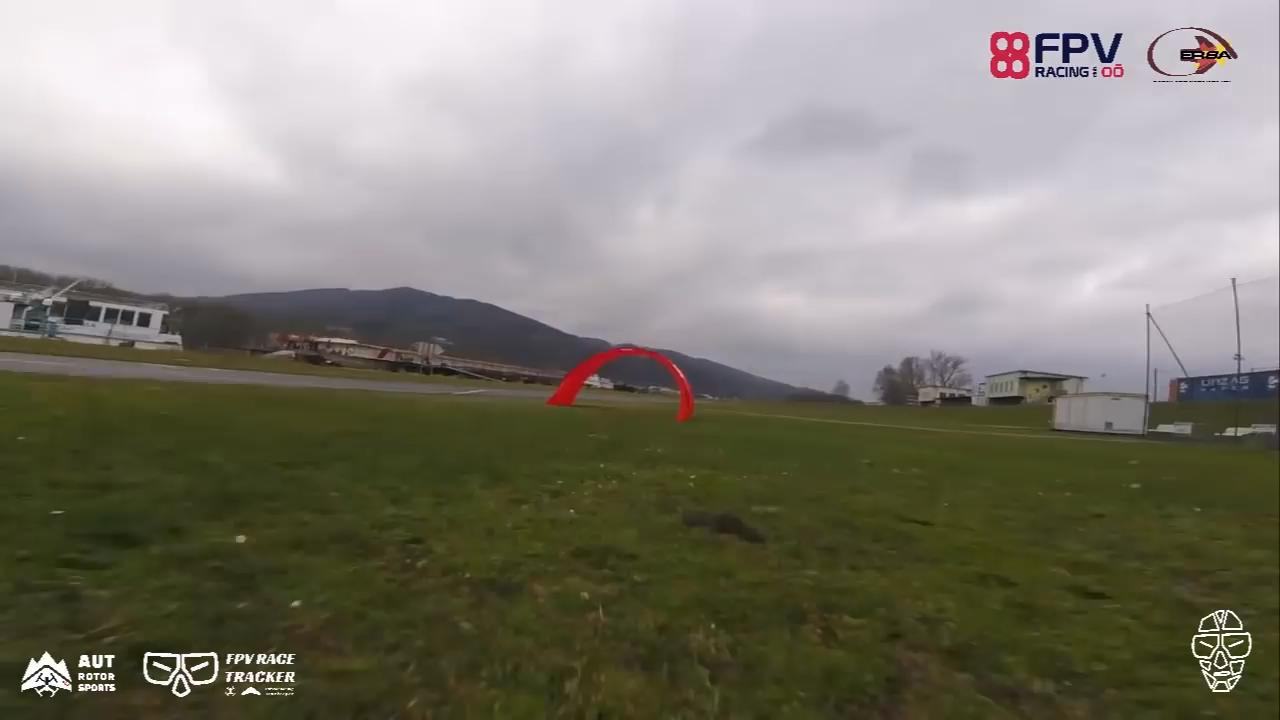gate: (547, 344, 695, 423)
